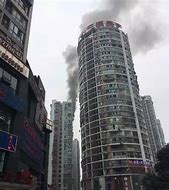smoke: (61, 42, 79, 101)
